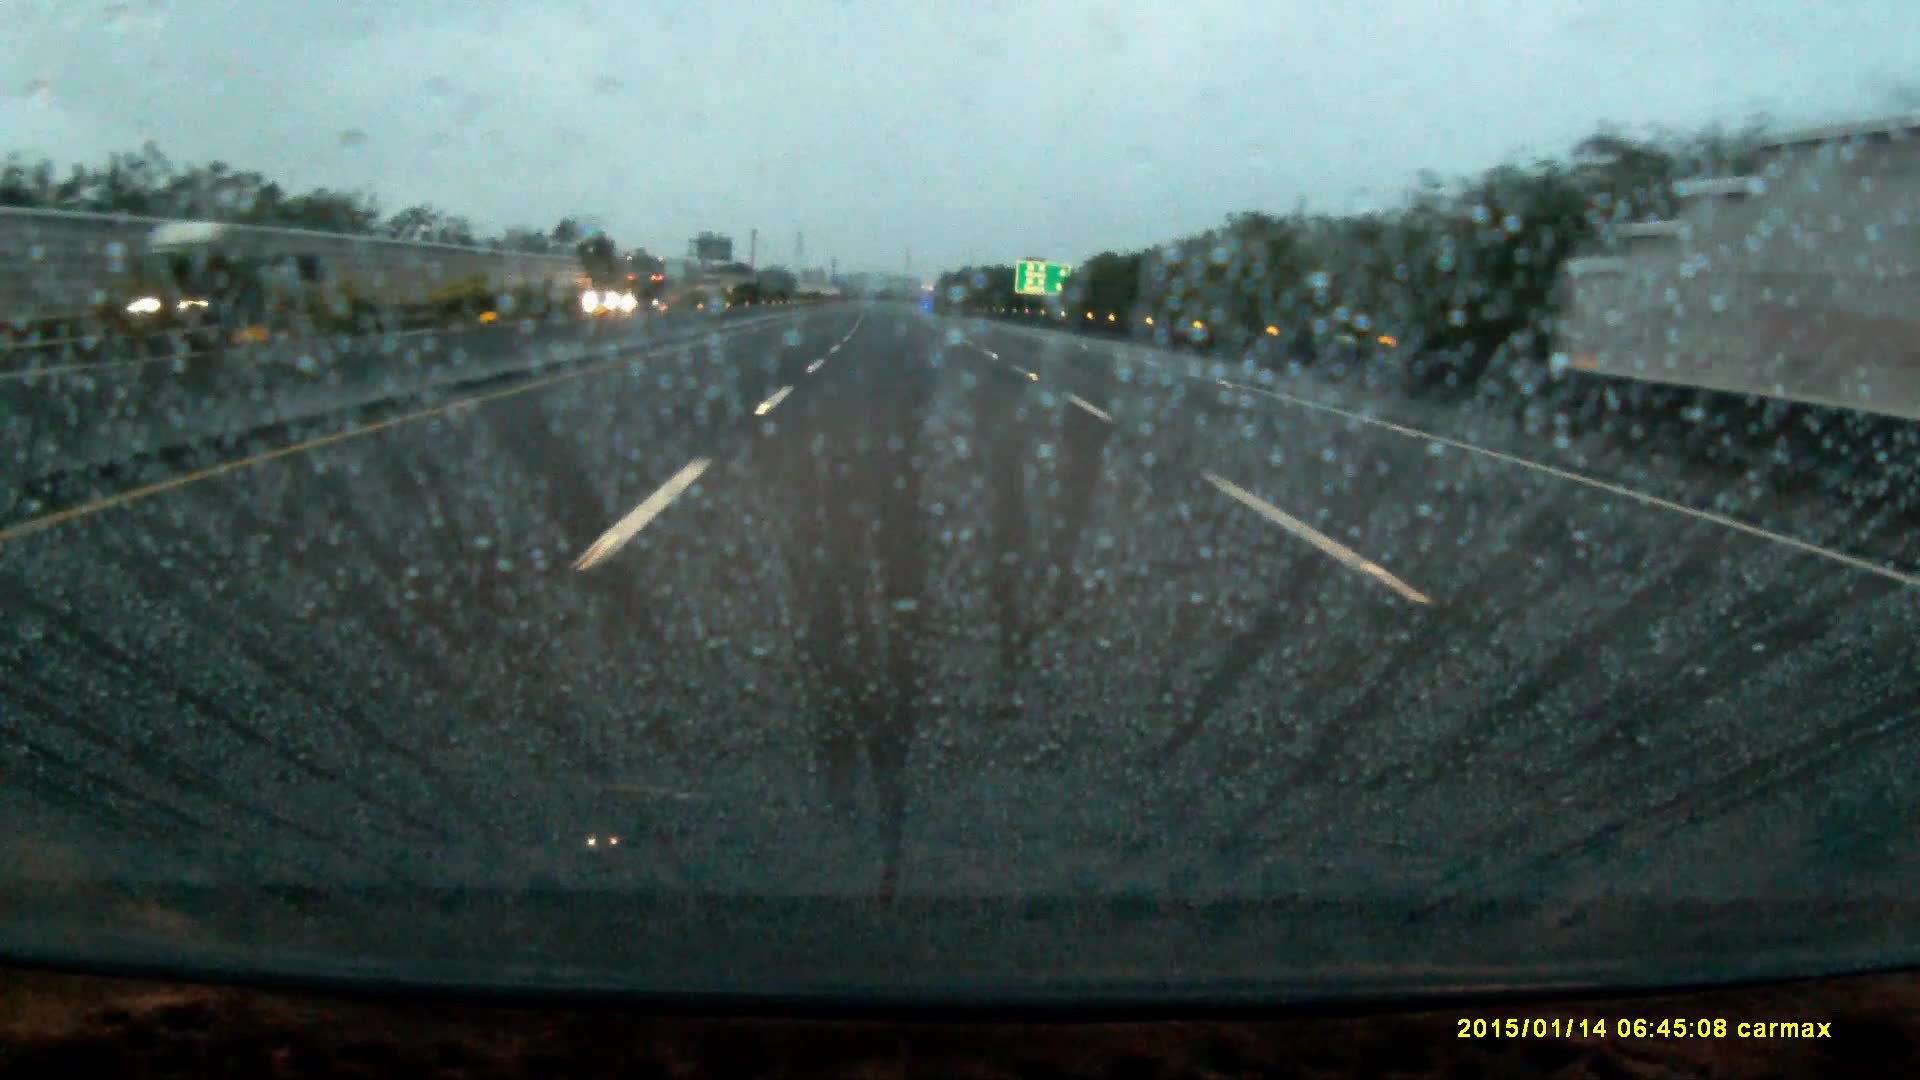vehicle: (136, 222, 318, 353), (622, 256, 687, 316)
